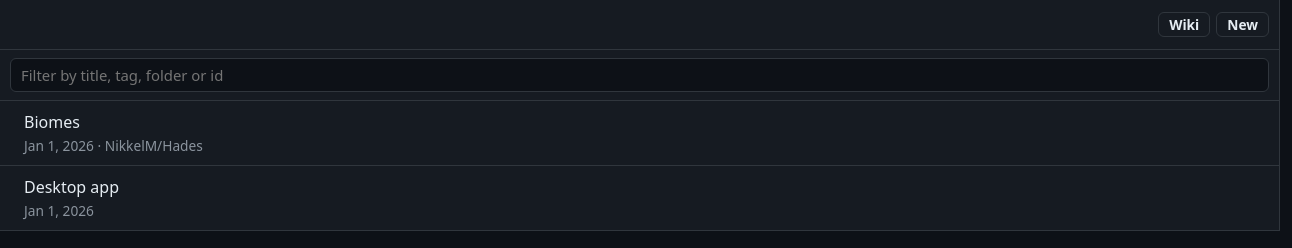
Test: Sidebar finding a session the list hides › still says nothing matched when the lookup finds nothing either
The width and height of the screenshot is (1292, 248).
In the search field: (640, 75) [10,58,1269,92], type "abcdef01"
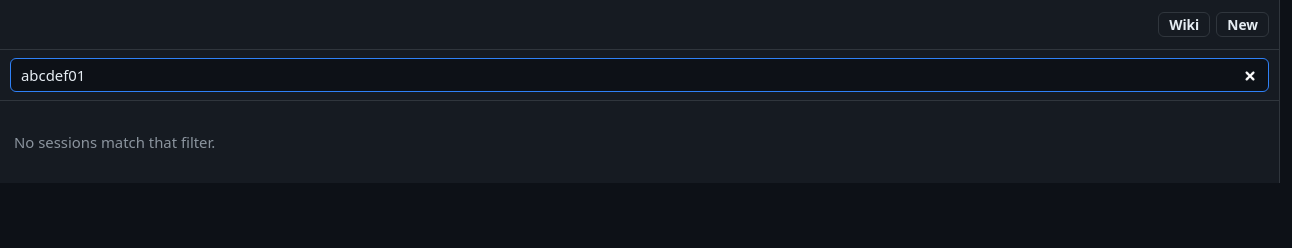
Expected: the text "No sessions match that filter." is shown, [14,132,215,152]
